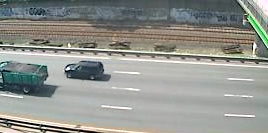car: (1, 58, 54, 96), (62, 59, 107, 82)
